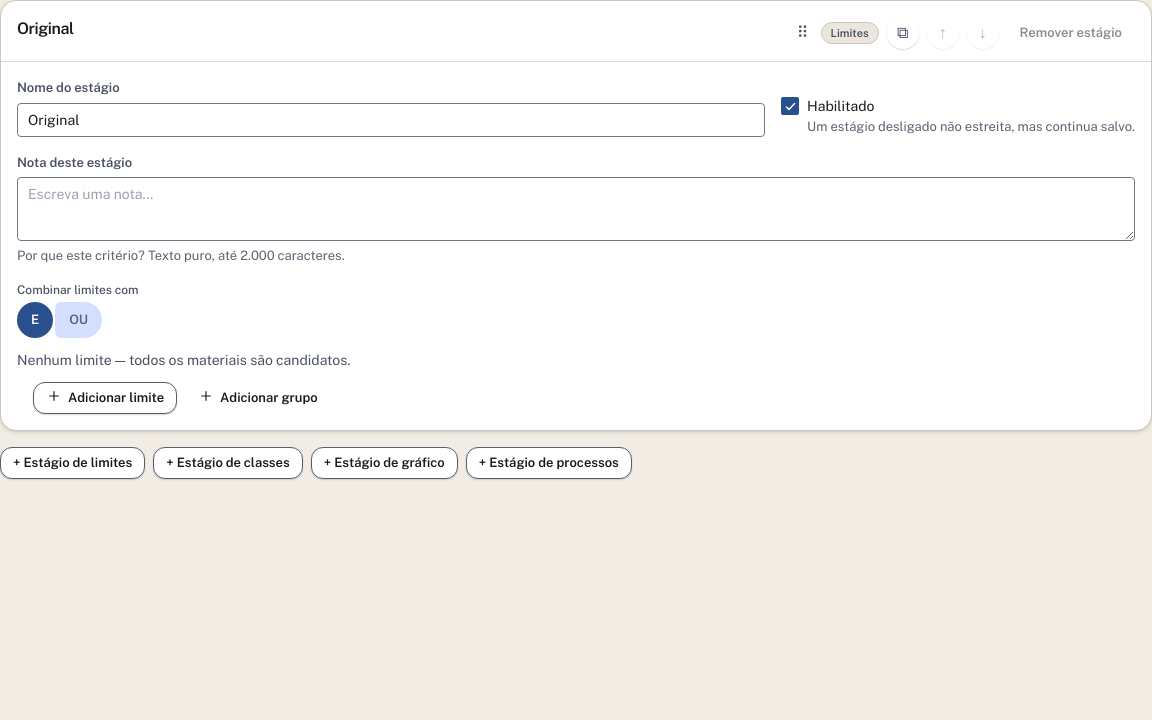
Test case: StageList › duplica um estágio pelo botão de ação inserindo cópia logo abaixo
Click the button "⧉": (903, 33) [887, 17, 919, 49]
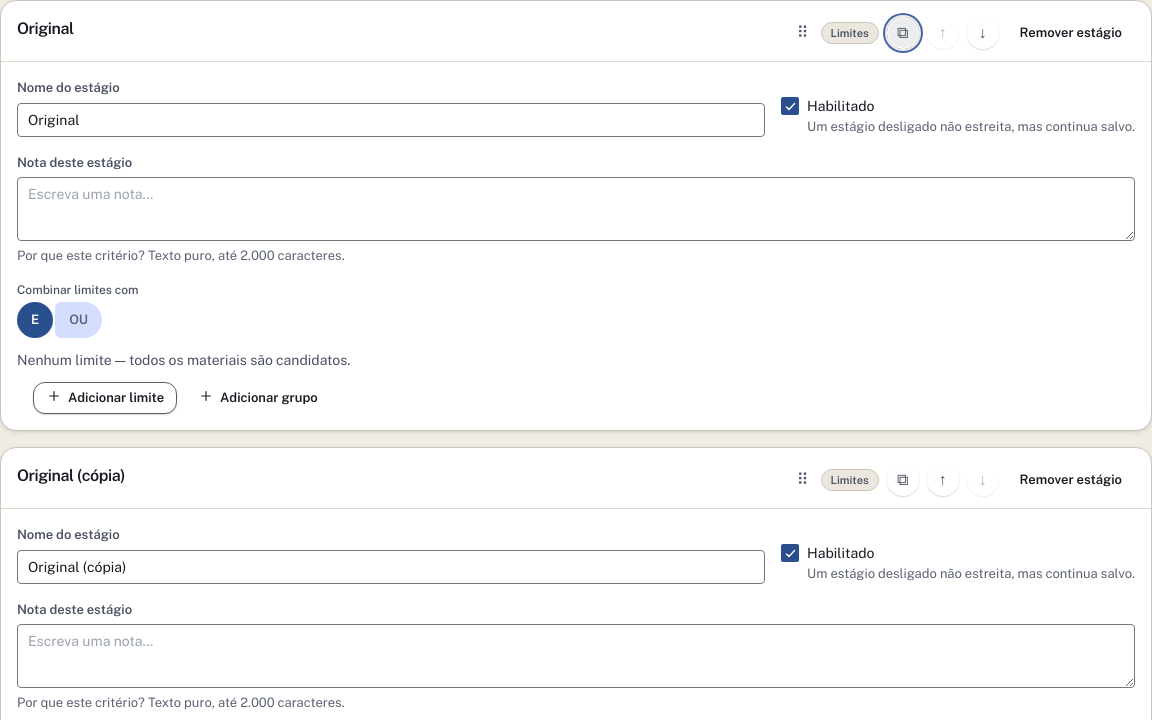
Expected: the heading "Original" is shown, [17, 17, 74, 41]
Now the heading "Original (cópia)" is shown, box [17, 464, 125, 488]
